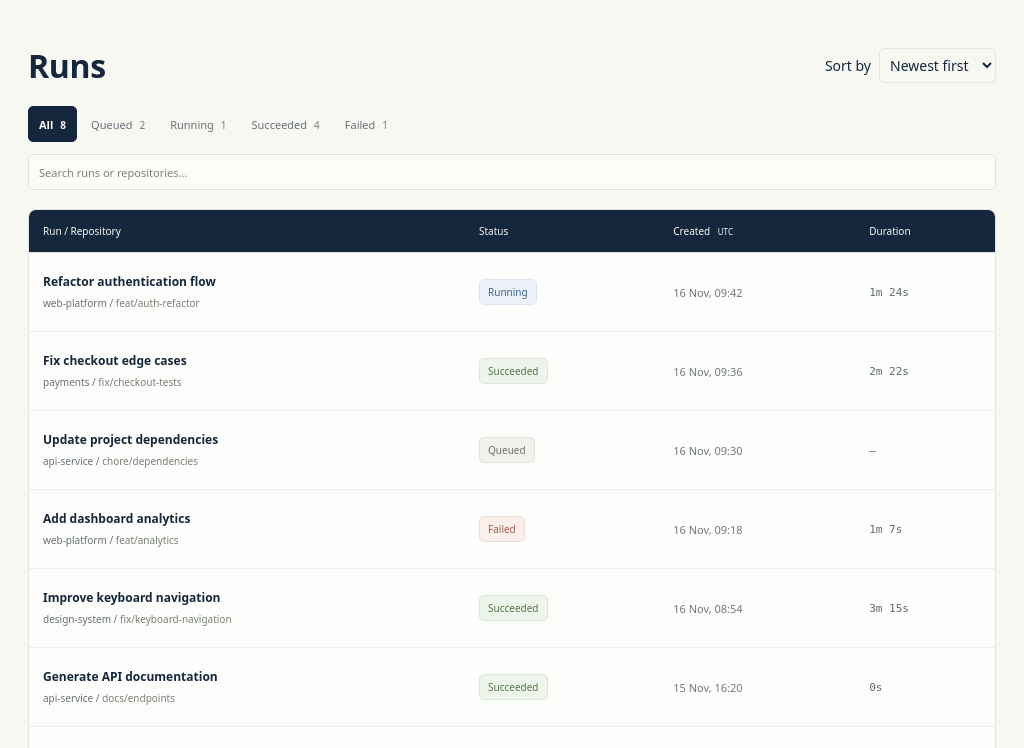
Test: Run filters › combines repository search with status and resets an empty result
Type " WEB-PLATFORM " into the search field.
click(512, 172); type(" WEB-PLATFORM ")  # box [39,156,985,188]
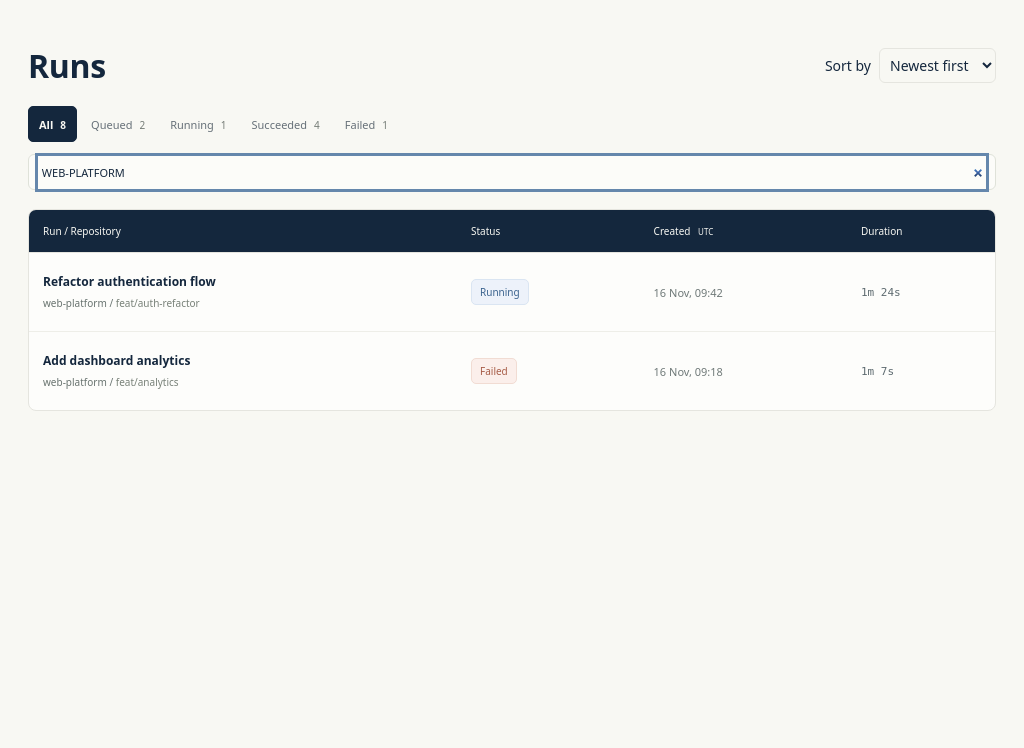
Check: the row "Refactor authentication flow" is shown, box [29,252,995,332]
Check: the text "Fix checkout edge cases" is gone
Click the button "Running 1".
click(198, 124)  # box [159,106,238,142]
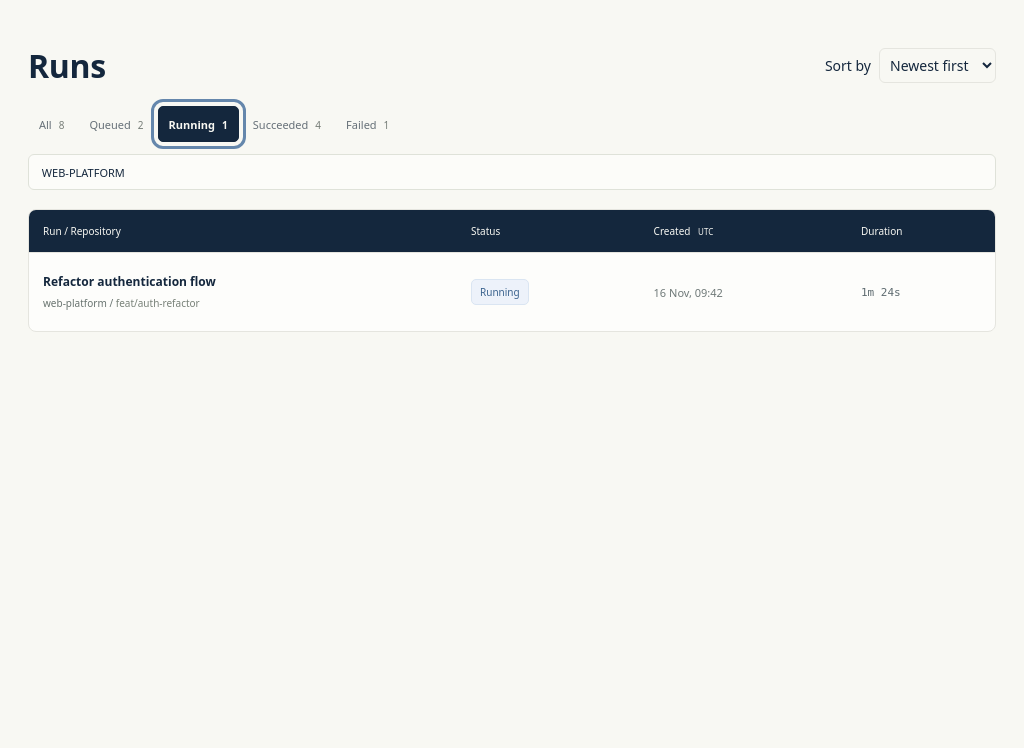
Check: the row "Refactor authentication flow" is shown, box [29,252,995,331]
Check: the text "Add dashboard analytics" is gone
Replace the text in the search field with "checkout" at (512, 172), box [39,156,985,188]
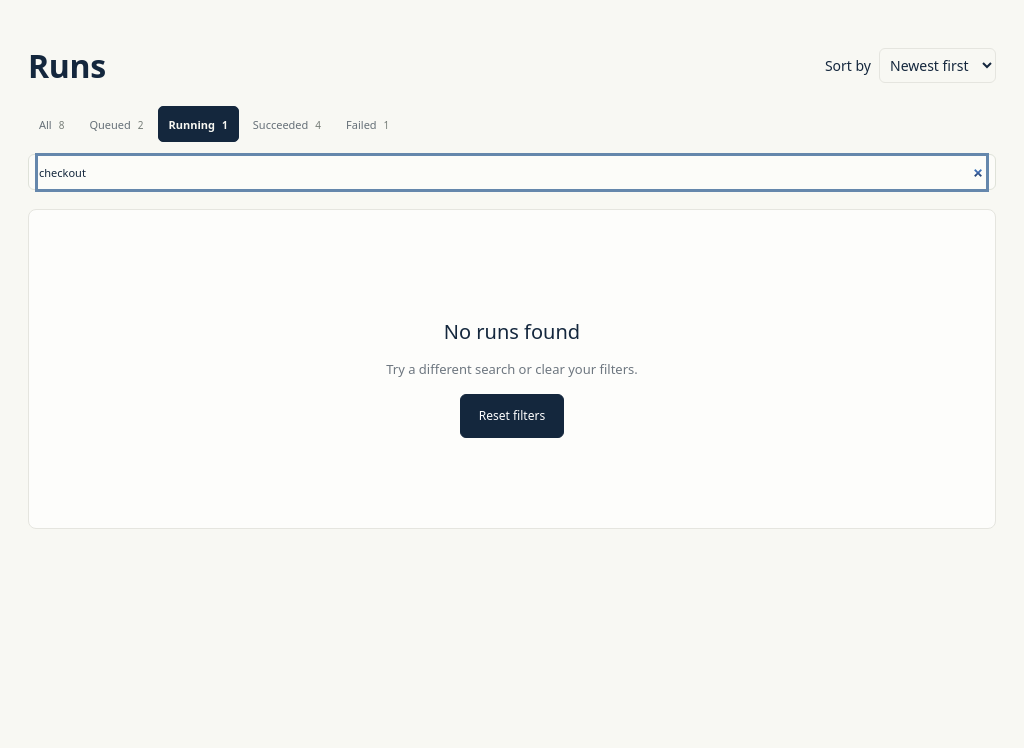
Check: the heading "No runs found" is shown, box [444,318,580,346]
Click the button "Reset filters".
click(512, 416)  # box [460,394,564,438]
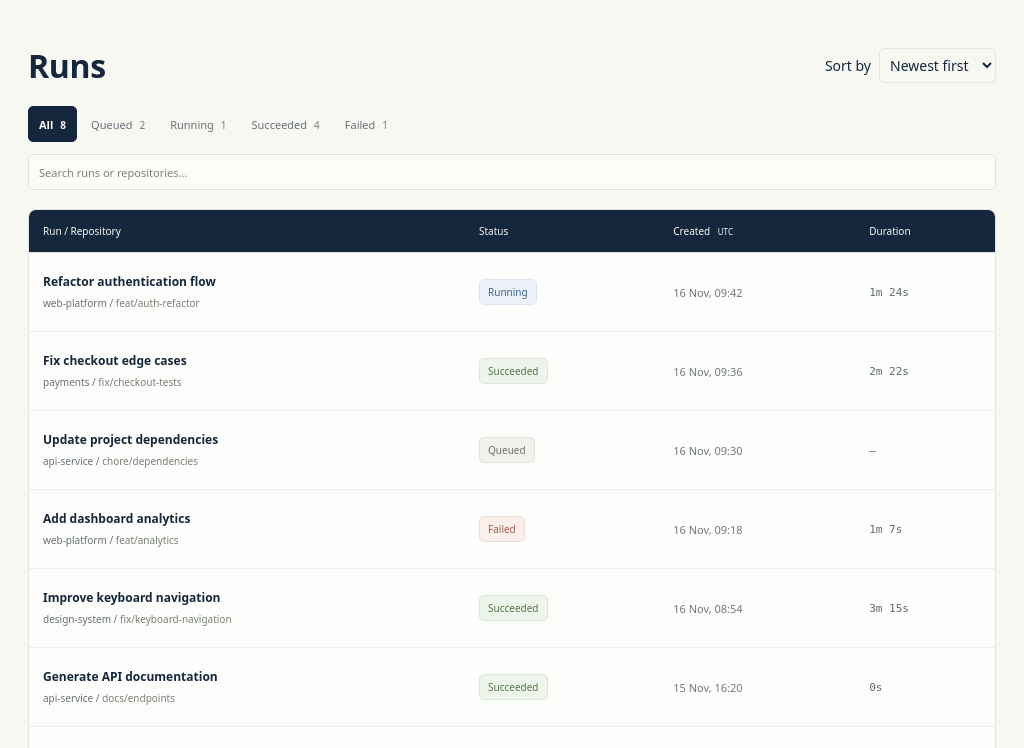
Check: the row "Fix checkout edge cases" is shown, box [29,332,995,410]
Check: the row "Add dashboard analytics" is shown, box [29,490,995,568]
